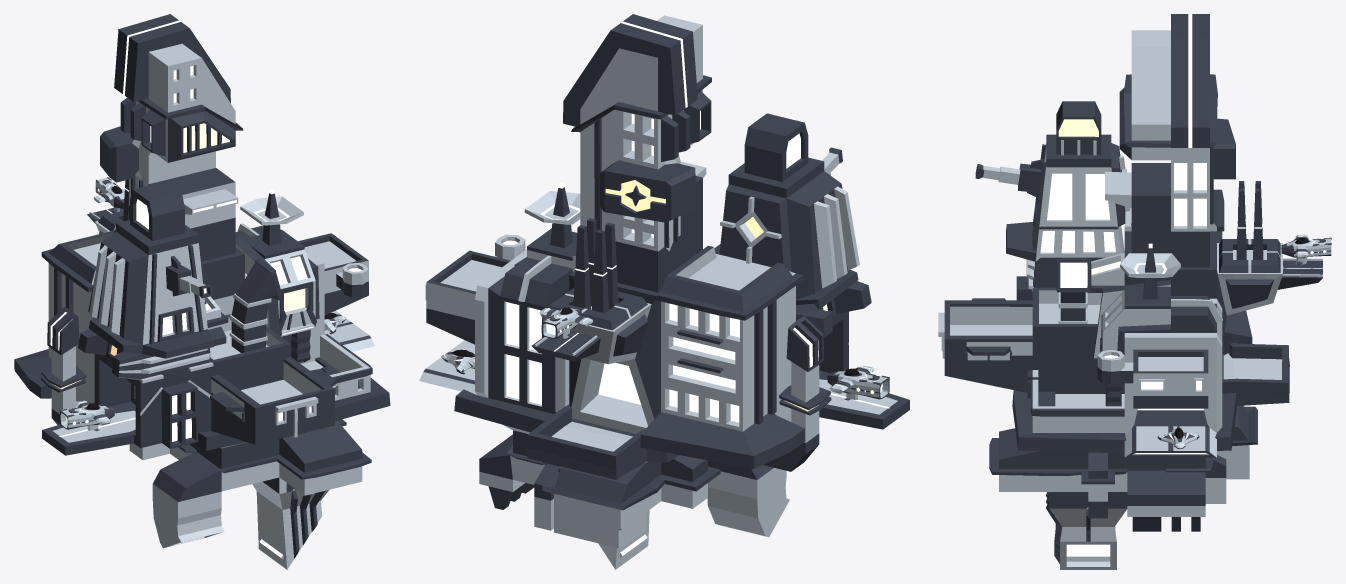
The picture shows the model from 3 angles, left to right: view 1: azimuth 30°, elevation 25°; view 2: azimuth 150°, elevation 25°; view 3: azimuth 270°, elevation 25°; orthographic projection. The views are drawn at different scales.
Parts seen in each view (by area): view 1: Cube.001, YellowCraft, BlueCraft; view 2: Cube.001, YellowCraft, BlueCraft; view 3: Cube.001, BlueCraft, YellowShip.
Boxes of the visible parts, x1,y1,x2,y2 form: Cube.001: [14, 14, 390, 569]; YellowCraft: [60, 400, 114, 431]; BlueCraft: [93, 177, 124, 212]; Cube.001: [419, 14, 909, 569]; YellowCraft: [827, 365, 889, 400]; BlueCraft: [539, 307, 592, 338]; Cube.001: [938, 14, 1322, 569]; BlueCraft: [1281, 234, 1331, 264]; YellowShip: [1157, 424, 1199, 449].
Bounding box in the file's own units: 5.33 × 7.55 × 5.25.
